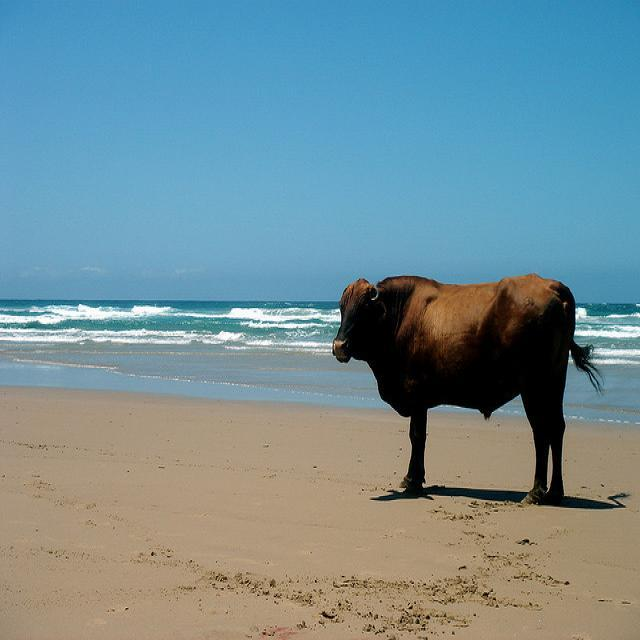cow: (332, 271, 606, 504)
